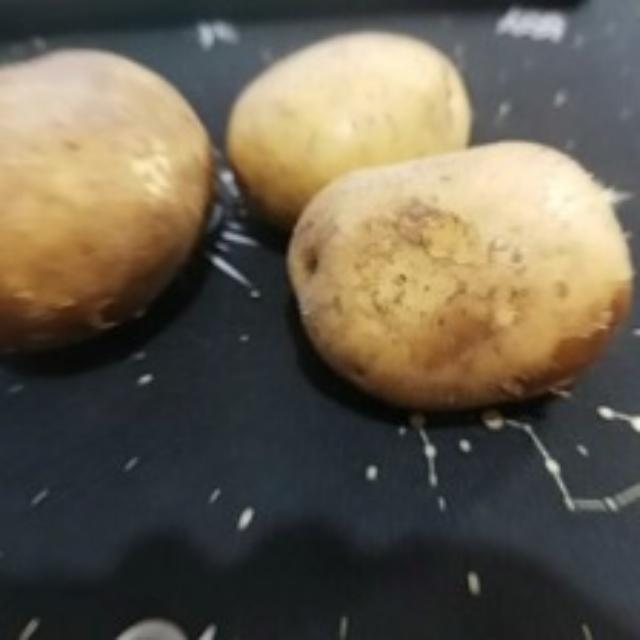Damaged potato: (284, 143, 640, 419), (3, 44, 220, 360)
Potato: (220, 32, 476, 232)
